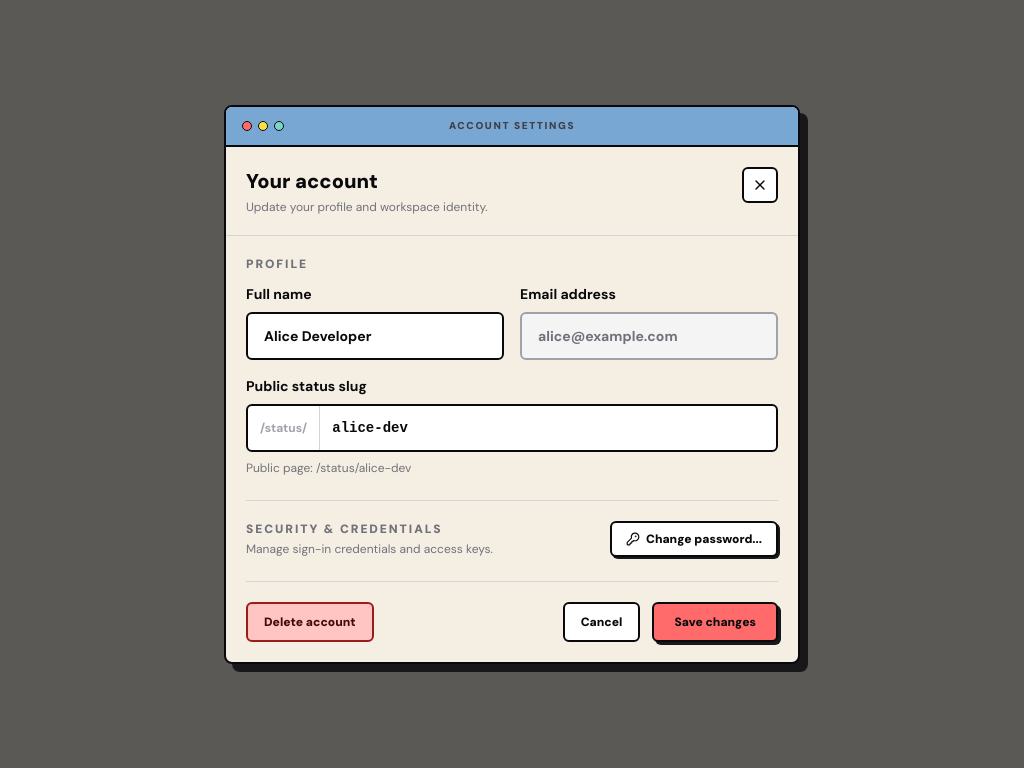
AccountSettingsModal Component › should switch to Delete Account sub-view
The image size is (1024, 768).
Click the button "Delete account". click: point(310, 622)
box: [246,602,374,642]
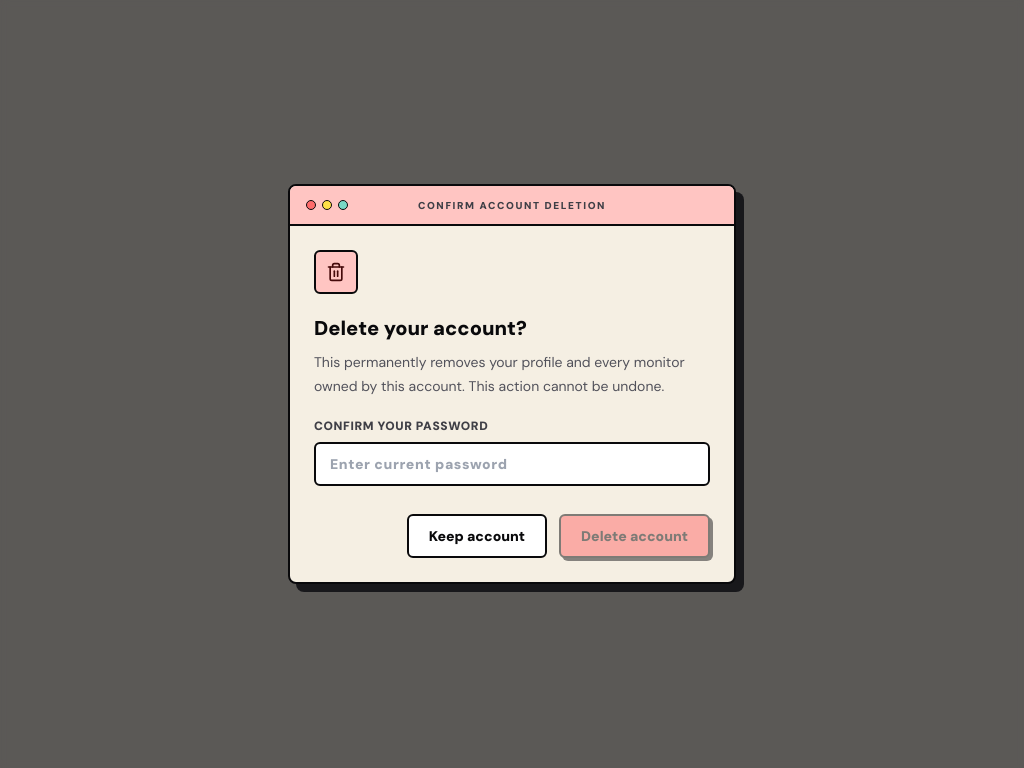
Check: the heading "Delete your account?" is shown, box [314,315,527,341]
